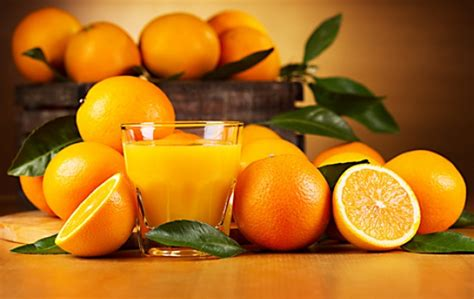orange: (230, 155, 334, 251), (382, 147, 470, 239), (41, 140, 130, 225), (73, 75, 176, 144)
